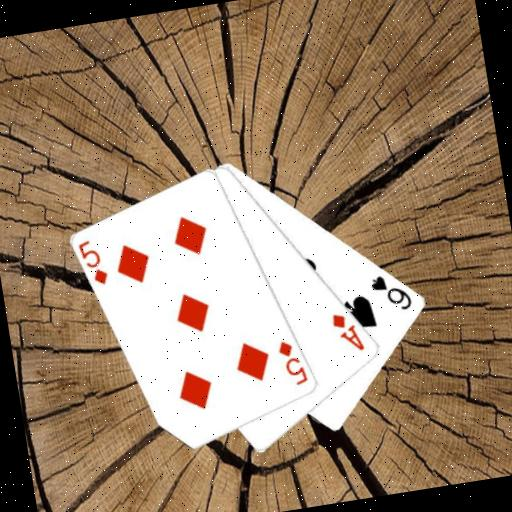5D: (74, 234, 111, 289), (274, 335, 311, 389)
6S: (366, 267, 415, 316)
AD: (328, 306, 367, 356)
